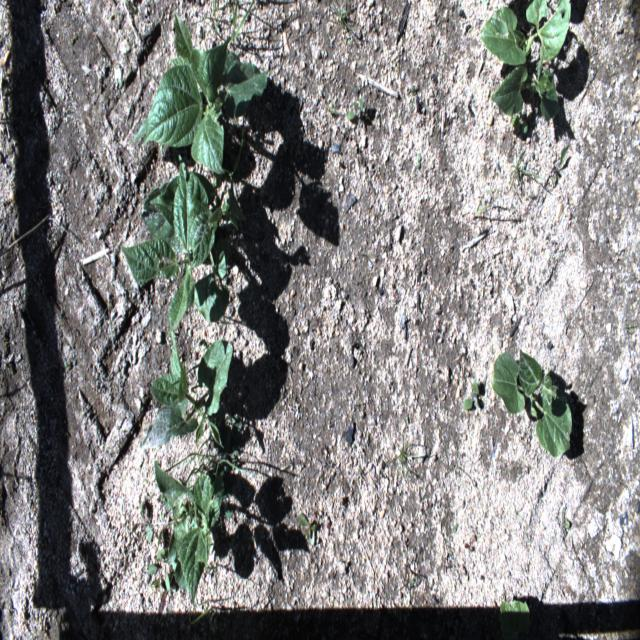crop: (132, 12, 268, 174), (119, 155, 214, 340), (142, 171, 245, 323), (480, 0, 571, 136), (140, 330, 233, 451), (154, 458, 226, 602), (491, 350, 572, 460), (498, 597, 530, 639)
weed: (134, 505, 172, 591), (511, 149, 542, 189), (392, 430, 414, 480), (230, 0, 251, 41), (462, 378, 481, 411), (552, 144, 567, 185), (297, 512, 317, 541), (346, 95, 364, 127), (203, 0, 219, 36), (337, 2, 350, 44), (560, 506, 570, 538), (408, 84, 415, 110), (416, 152, 422, 170), (452, 522, 458, 535), (409, 576, 415, 587)
